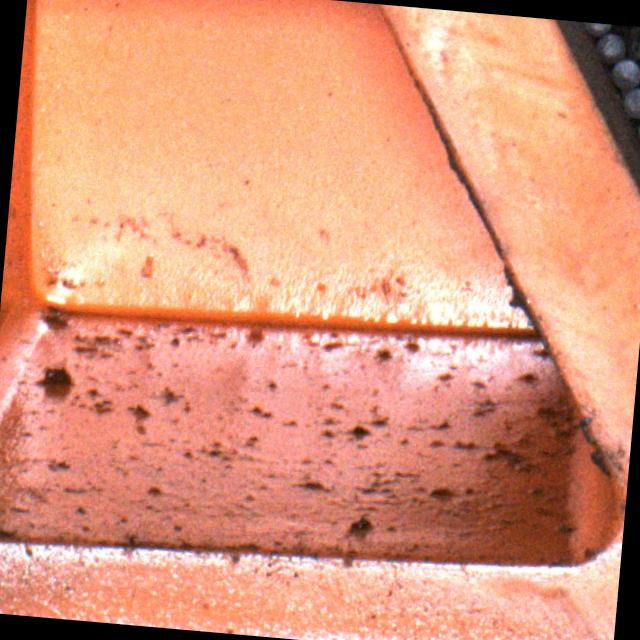tool: (610, 57, 640, 89), (595, 32, 624, 62), (621, 88, 640, 119), (580, 22, 609, 35)
tool_b: (622, 25, 640, 66)
void: (608, 24, 640, 35)
